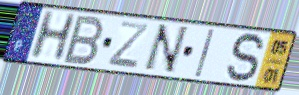B: (61, 14, 106, 67)
H: (27, 9, 79, 62)
I: (193, 27, 217, 79)
N: (140, 22, 191, 75)
S: (225, 31, 267, 85)
Z: (105, 19, 151, 71)
